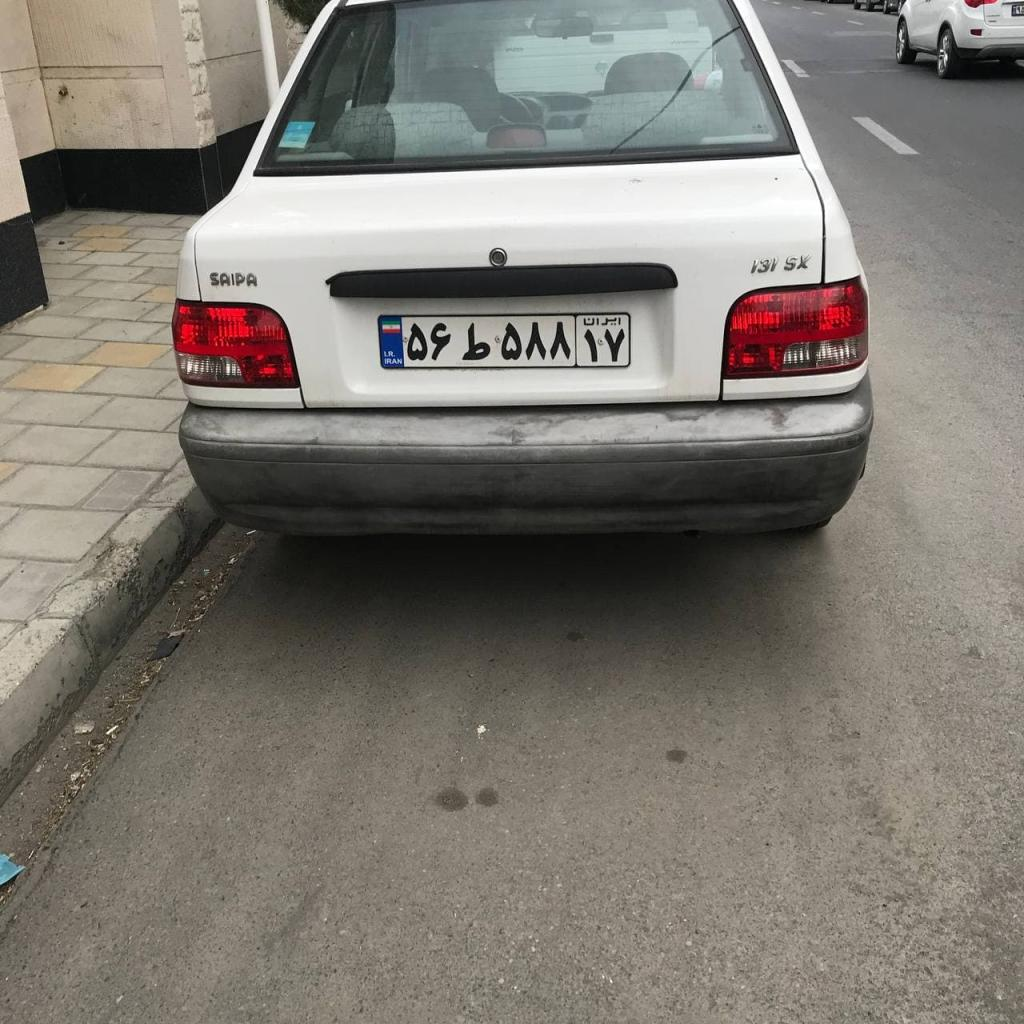Plates: (378, 314, 629, 368)
